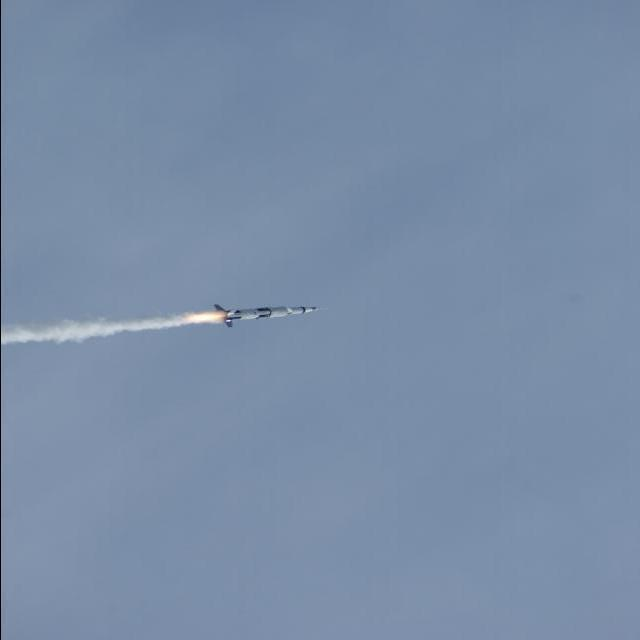missile: (207, 293, 322, 341)
